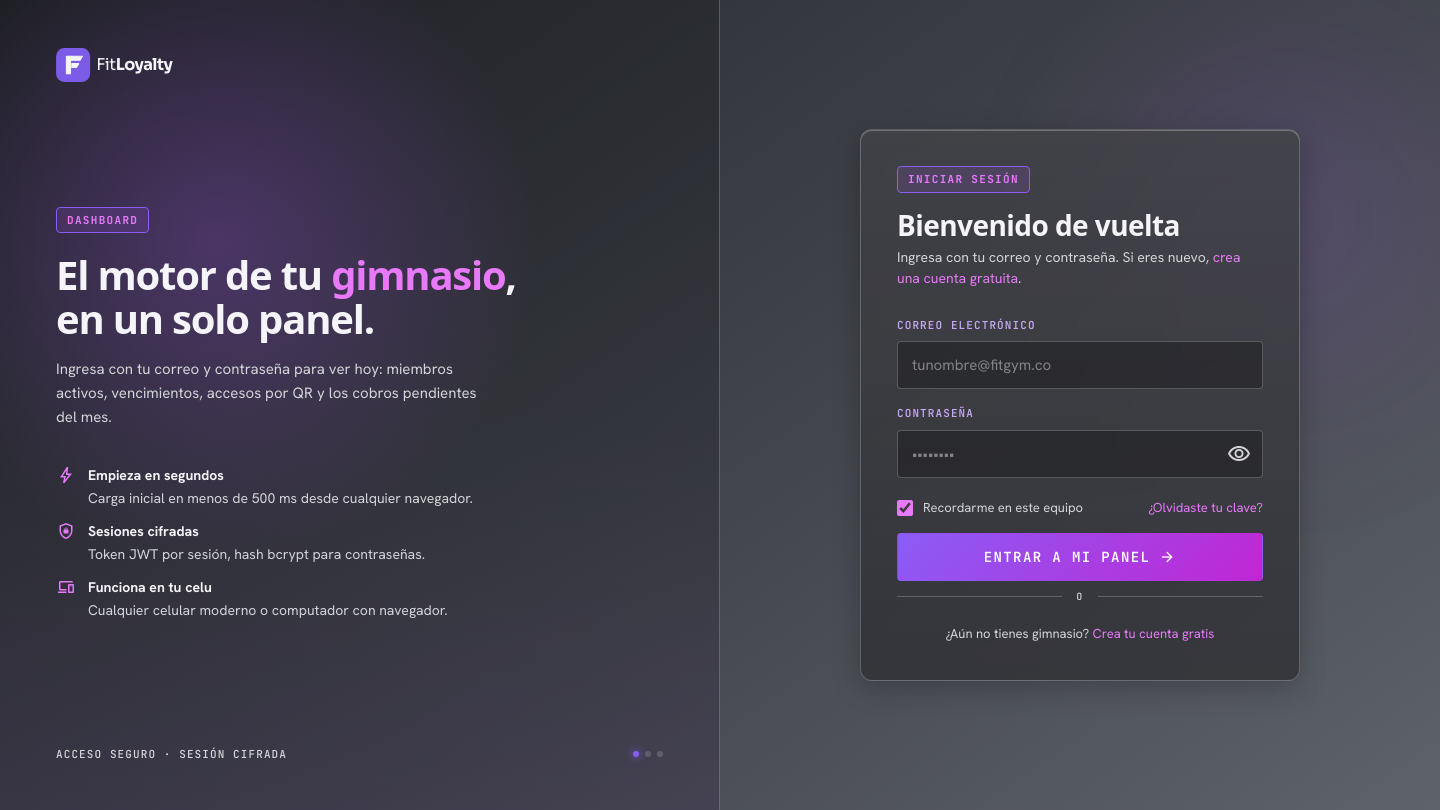
Scenario: LoginPage › should show an error when only the email is filled
The image size is (1440, 810).
Type "ana@gym.co" into the field labelled "Correo electrónico" at (1080, 365), box x1=897 y1=341 x2=1263 y2=389
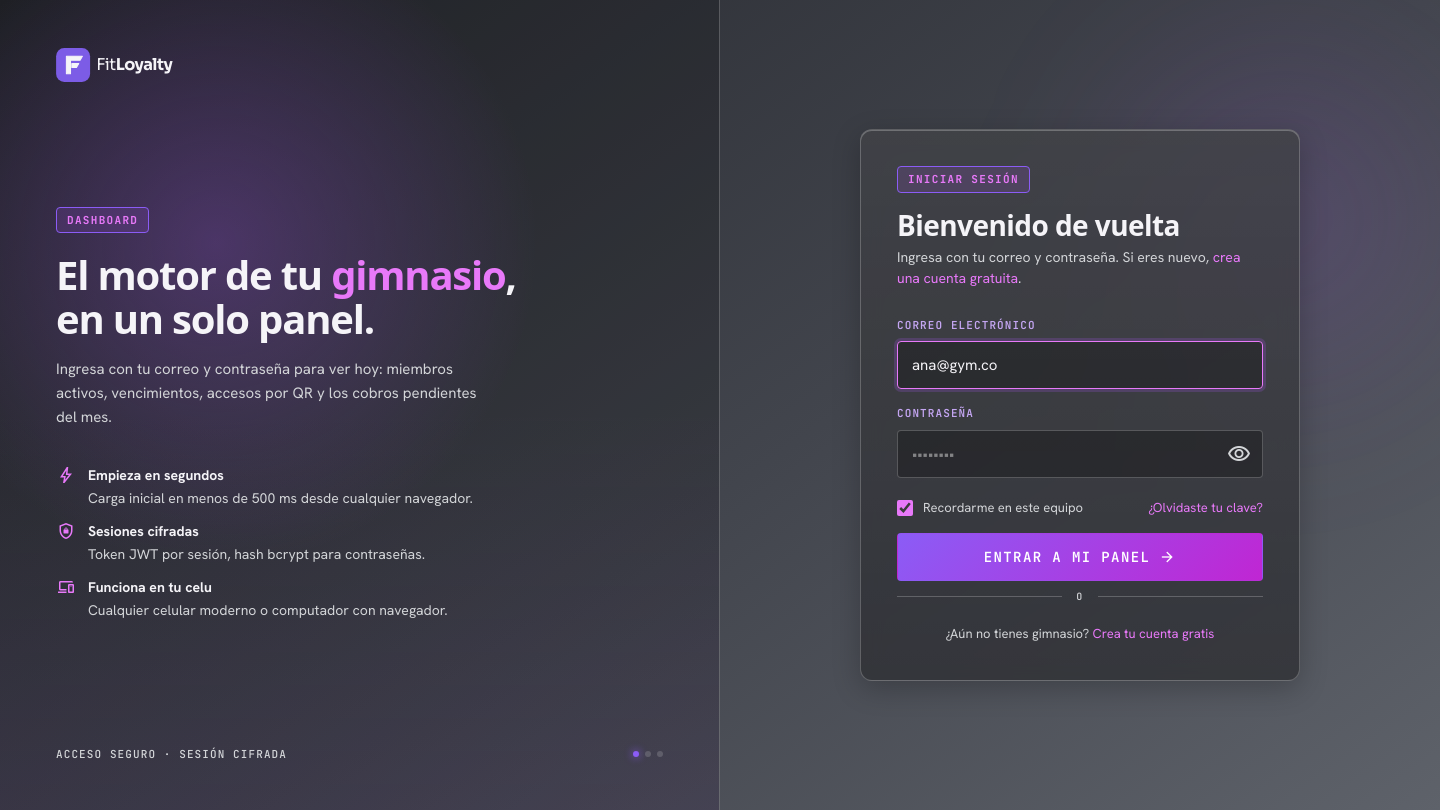
Click the button "Entrar a mi panel" at (1080, 557), box x1=897 y1=533 x2=1263 y2=581
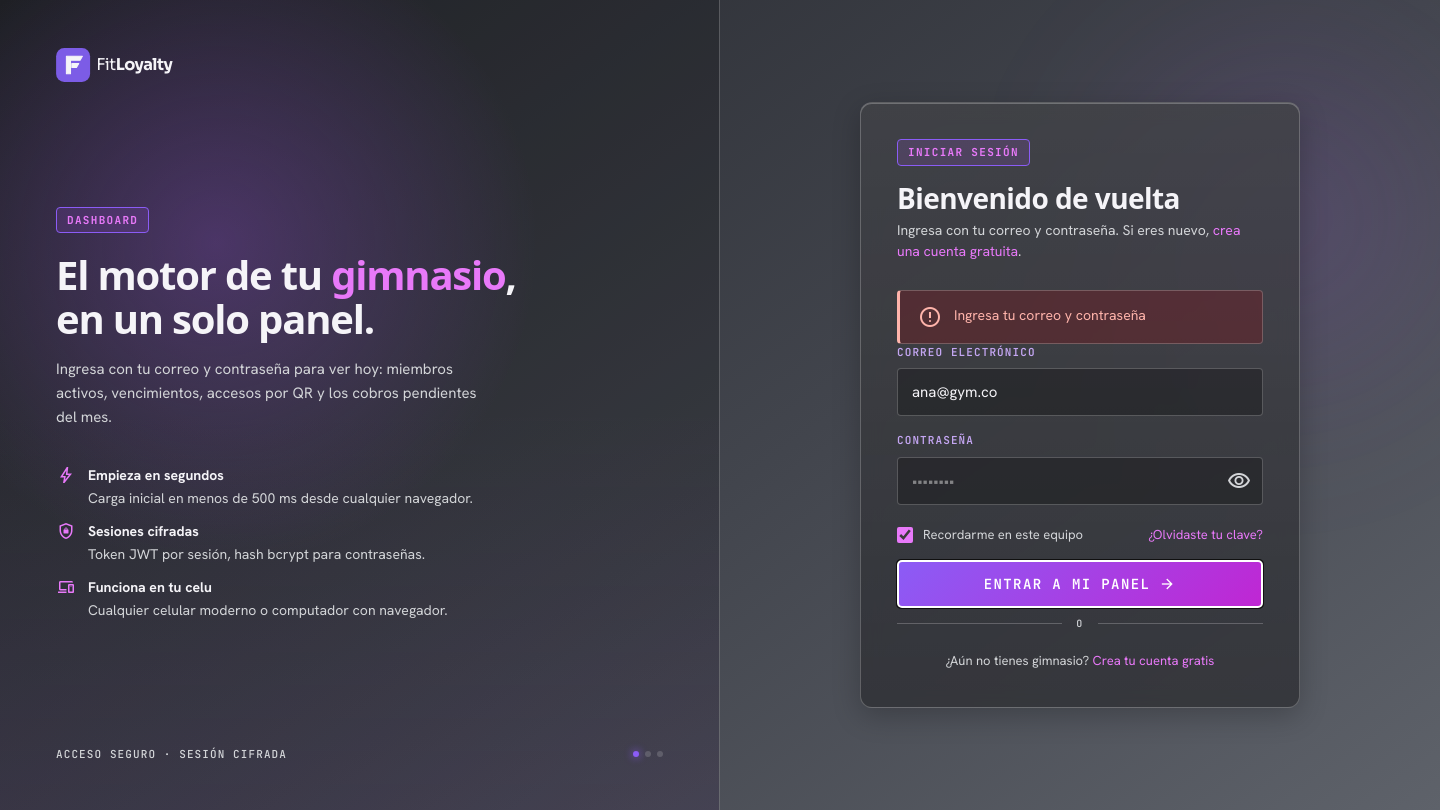
Check: the message reads "Ingresa tu correo y contraseña", box x1=954 y1=306 x2=1146 y2=324
